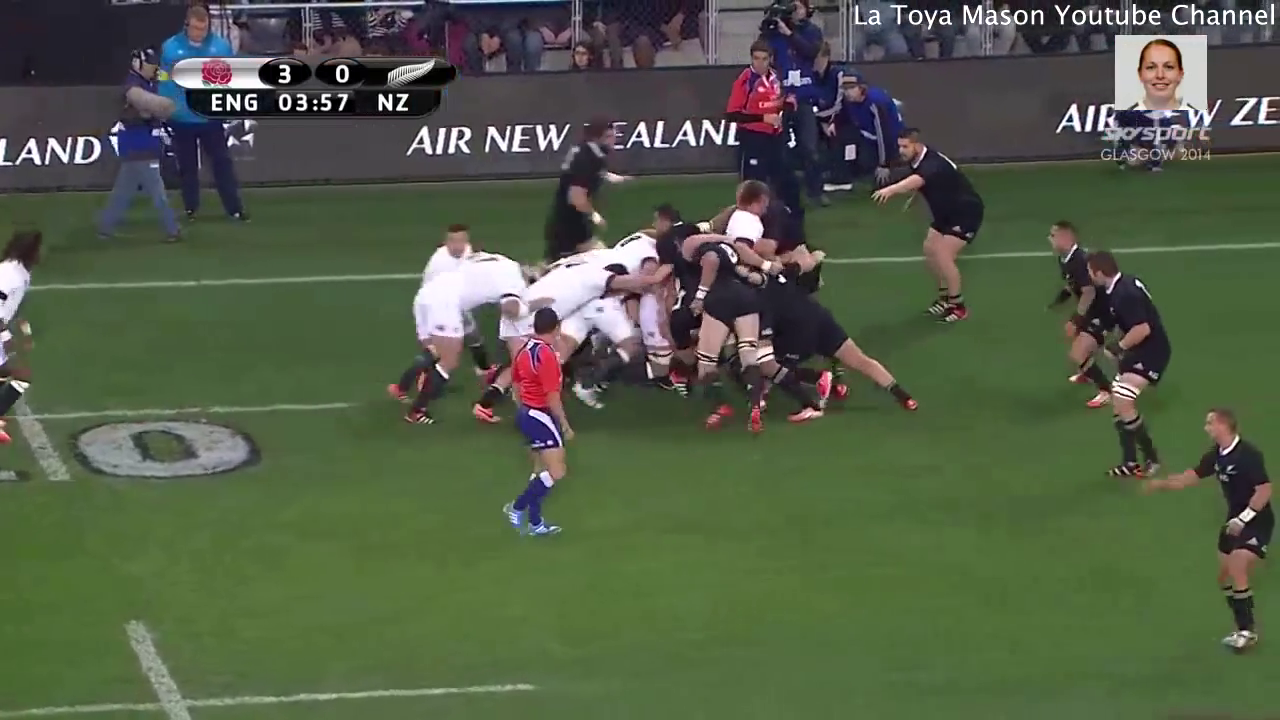10_metre: (1, 604, 544, 720), (1, 358, 369, 497)
player: (1131, 400, 1280, 659), (470, 251, 673, 425), (745, 261, 934, 435), (374, 243, 539, 440), (478, 294, 593, 548), (873, 123, 995, 338), (1080, 245, 1176, 488), (669, 260, 783, 440), (523, 100, 640, 268), (721, 35, 813, 240), (1024, 204, 1111, 416), (1, 220, 65, 462), (705, 176, 785, 248)
